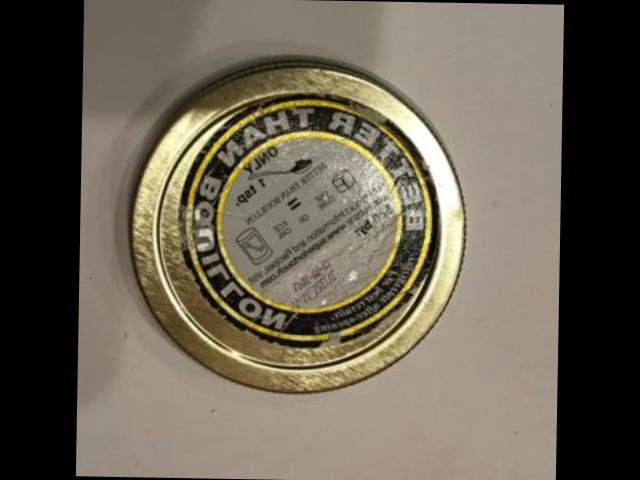metal: (134, 62, 466, 392)
